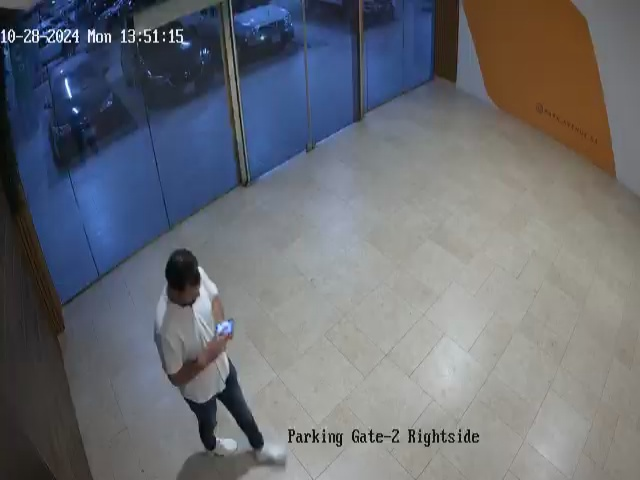male: (153, 248, 287, 465)
